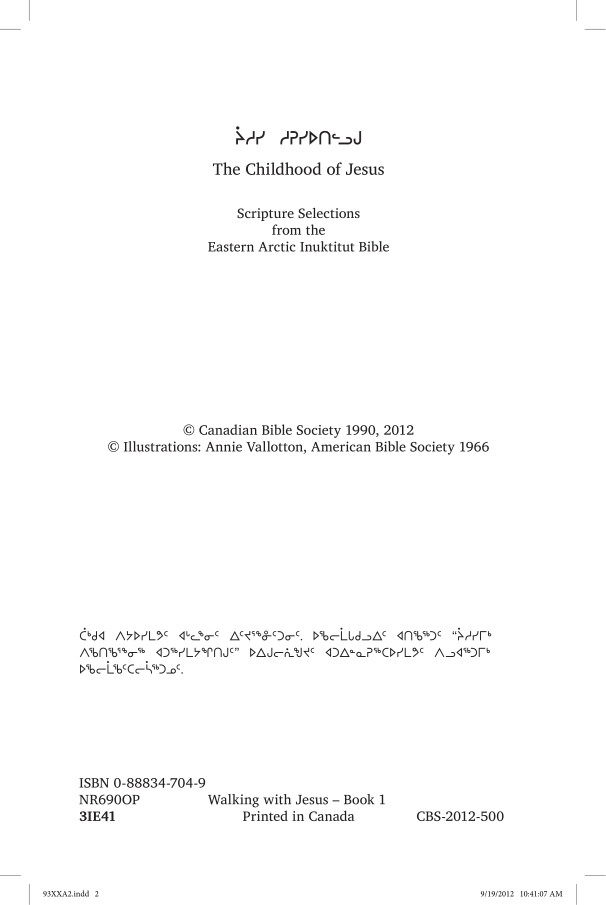inuktitut: (70, 618, 500, 684), (227, 118, 366, 150)
latin: (121, 436, 492, 455), (205, 155, 387, 180), (194, 419, 417, 438), (202, 237, 392, 255), (200, 791, 387, 807), (76, 771, 207, 791), (232, 203, 362, 220), (409, 803, 509, 824), (236, 807, 356, 824), (70, 791, 144, 807), (266, 222, 327, 237), (74, 808, 118, 824)
